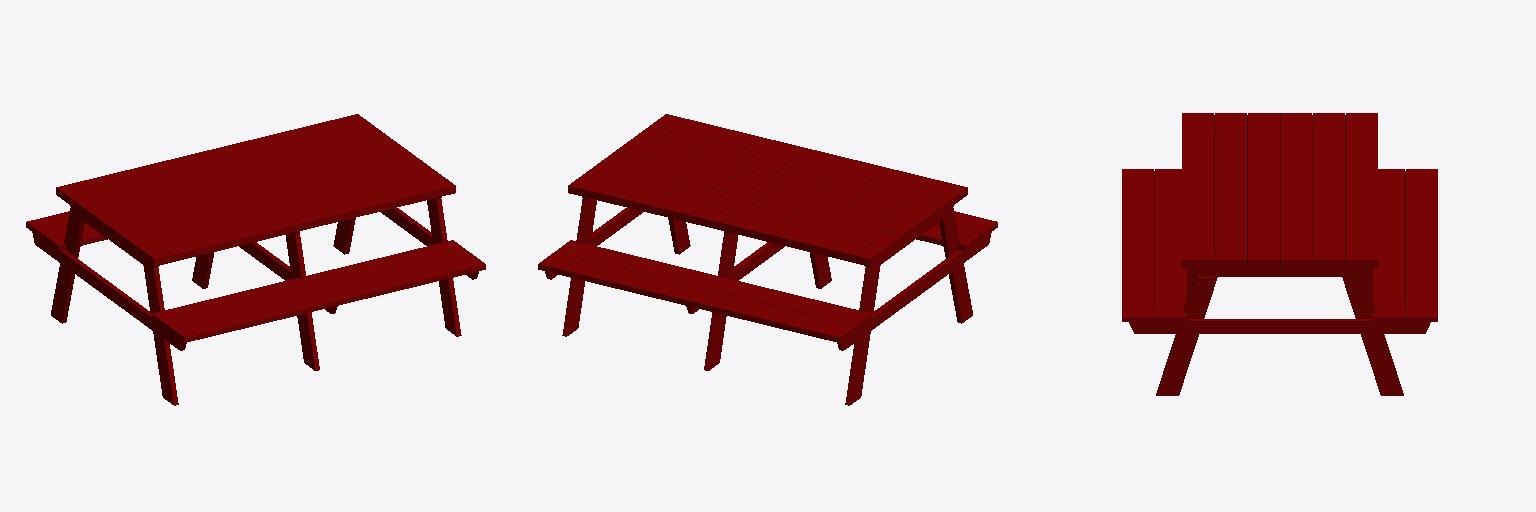
Rendered from picnic_table.obj.
The picture shows the model from 3 angles: view 1: azimuth 30°, elevation 25°; view 2: azimuth 150°, elevation 25°; view 3: azimuth 270°, elevation 25°; orthographic projection.
Visible parts, largest first — view 1: picnic_table; view 2: picnic_table; view 3: picnic_table.
Boxes of the visible parts, <box> form: picnic_table: <box>26,114,485,405</box>; picnic_table: <box>538,114,997,405</box>; picnic_table: <box>1122,113,1437,395</box>.
Size of the model in its own units: 1600 by 706 by 1452.